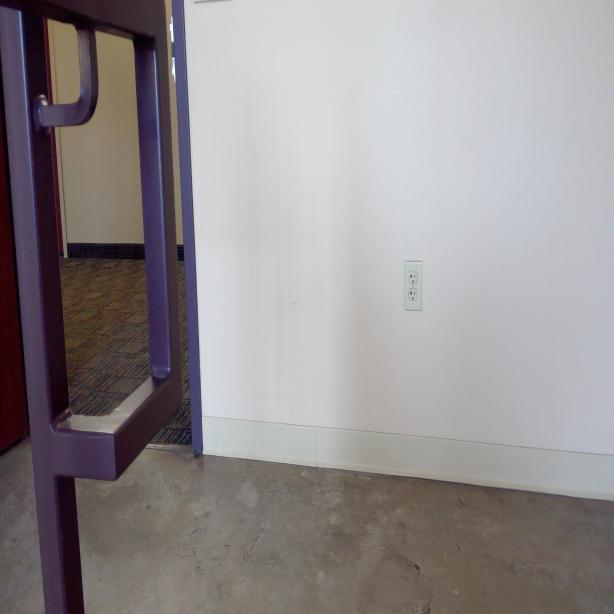typeb: (409, 271, 418, 286), (409, 287, 417, 302)
